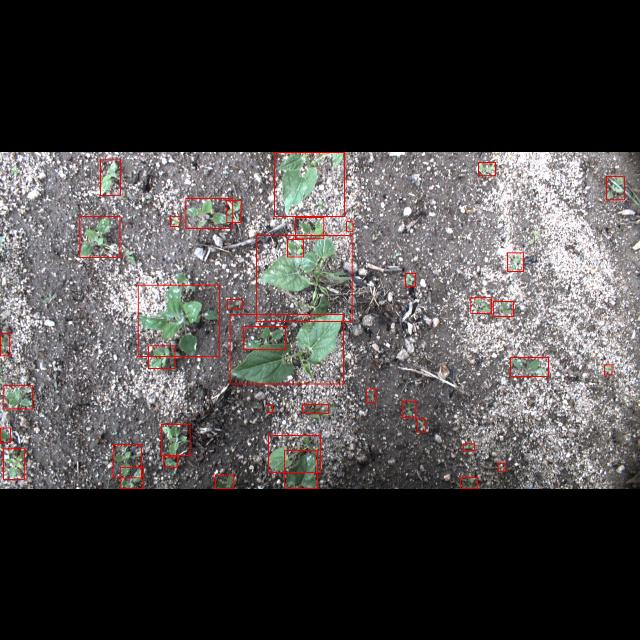crop: (256, 235, 352, 321), (230, 314, 344, 384), (275, 151, 345, 215), (268, 436, 320, 472), (284, 450, 318, 488)
weed: (138, 284, 220, 356), (80, 216, 120, 256), (185, 197, 232, 227), (112, 444, 142, 478), (244, 326, 286, 348), (162, 424, 190, 456), (509, 358, 548, 377), (100, 159, 120, 195), (3, 448, 25, 479), (4, 386, 32, 408), (148, 346, 176, 368), (296, 216, 324, 238), (120, 468, 144, 488), (606, 175, 624, 199), (493, 300, 513, 316), (227, 199, 241, 221), (471, 298, 492, 312), (507, 252, 523, 270), (287, 238, 303, 256), (214, 474, 233, 488), (302, 403, 328, 413), (478, 161, 496, 175), (0, 332, 10, 356), (402, 401, 416, 417), (460, 478, 478, 488), (163, 457, 177, 468), (0, 428, 10, 442), (416, 418, 426, 432), (366, 388, 376, 402), (228, 299, 242, 309), (405, 272, 415, 286), (170, 215, 180, 225), (604, 364, 612, 374), (346, 220, 354, 230), (464, 444, 474, 451), (498, 463, 506, 471), (268, 404, 272, 412)
